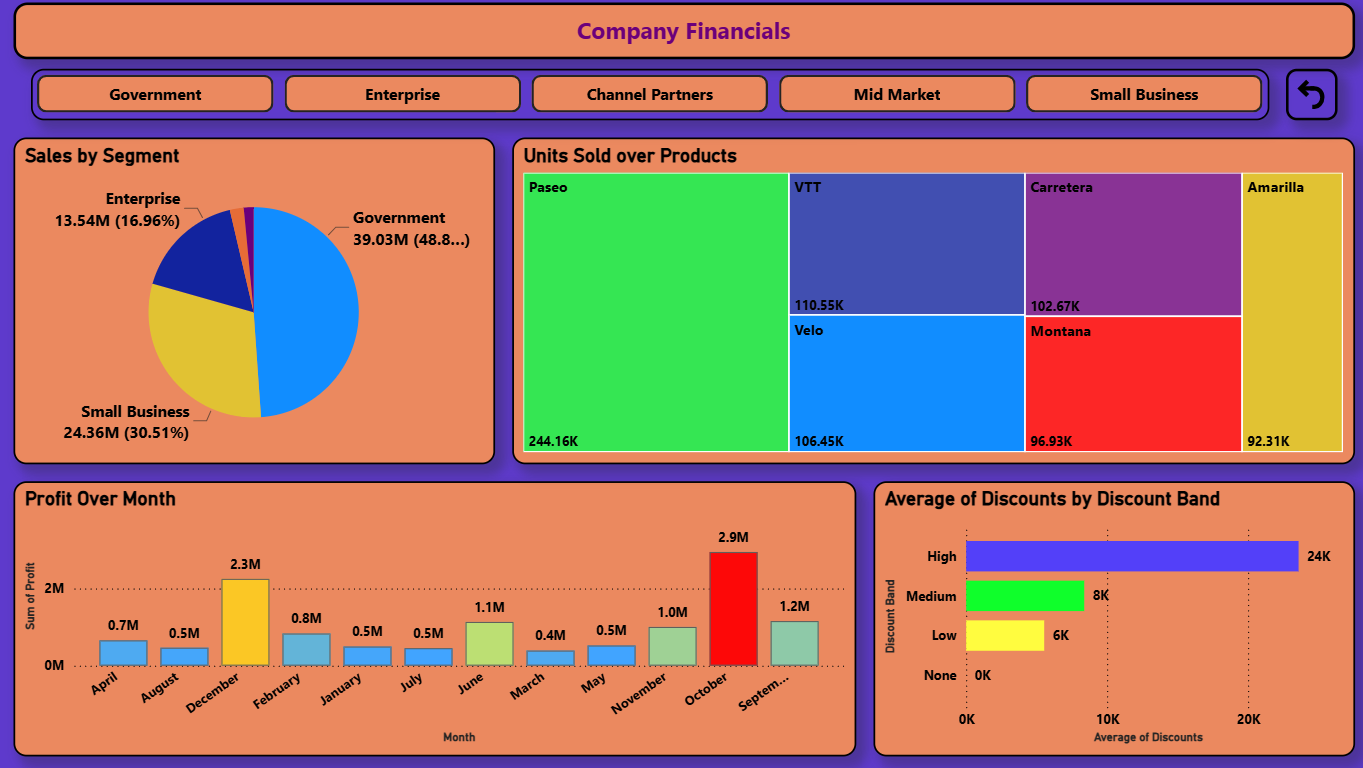

The page's visual inventory and layout, read from the dashboard file:
{"tool":"powerbi","page":{"name":"Dashboard","canvas":[1280,720],"ordinal":0},"visuals":[{"type":"textbox","box":[16,2,1248,53],"z":0},{"type":"pieChart","title":"Sales by Segment","fields":{"Y":["Sum(financials. Sales)"],"Category":["financials.Segment"]},"box":[16,128,448,304],"z":1000},{"type":"columnChart","title":"Profit Over Month","fields":{"Y":["Sum(financials.Profit)"],"Category":["financials.Month Name"]},"box":[16,448,784,256],"z":2000},{"type":"treemap","title":"Units Sold over Products","fields":{"Values":["Sum(financials.Units Sold)"],"Group":["financials.Product"]},"box":[480,128,784,304],"z":3000},{"type":"clusteredBarChart","fields":{"Category":["financials.Discount Band"],"Y":["Avg(financials.Discounts)"]},"box":[816,448,448,256],"z":4000},{"type":"pageNavigator","box":[32,64,1152,48],"z":5000},{"type":"actionButton","box":[1200,64,48,48],"z":6000}]}

Visuals, with their boxes in screenshot pixels (x1, y1, x2, y2), scaled from the page's 1280x720 canvas onto the 1363x768 screenshot:
textbox: locate(17, 2, 1346, 59)
"Sales by Segment" pieChart: locate(17, 137, 494, 461)
"Profit Over Month" columnChart: locate(17, 478, 852, 751)
"Units Sold over Products" treemap: locate(511, 137, 1346, 461)
clusteredBarChart - financials.Discount Band x Avg(financials.Discounts): locate(869, 478, 1346, 751)
pageNavigator: locate(34, 68, 1261, 119)
actionButton: locate(1278, 68, 1329, 119)
